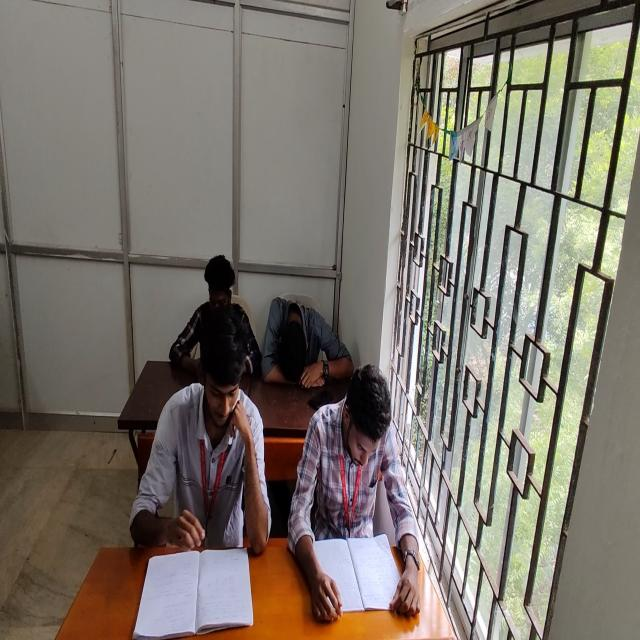reading: (131, 305, 274, 559), (287, 363, 411, 625)
sleeping: (260, 296, 351, 388)
using_mobile: (169, 254, 262, 382)
